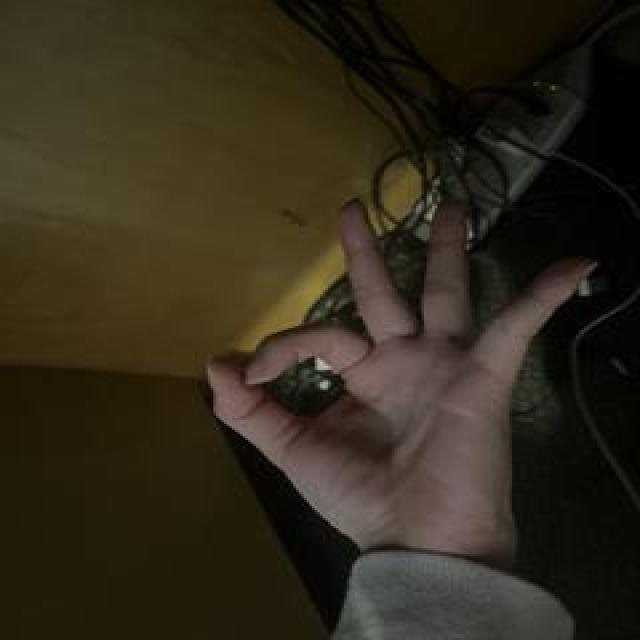F: (200, 193, 603, 557)
